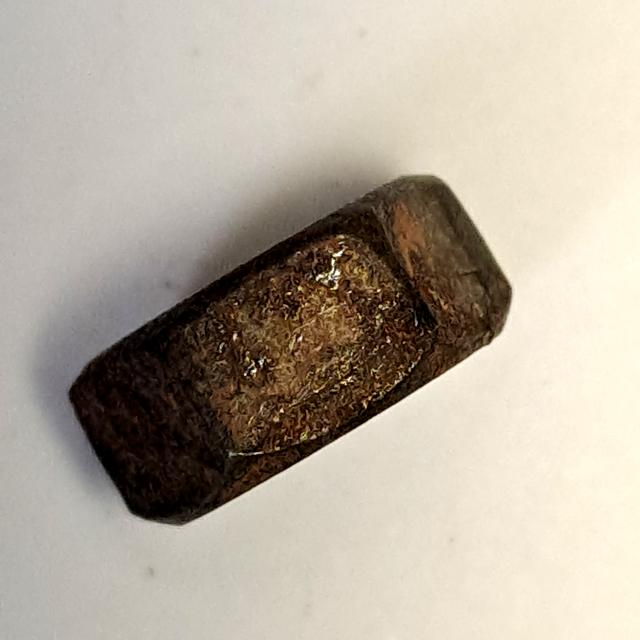Side_Rust: (51, 162, 528, 540)
